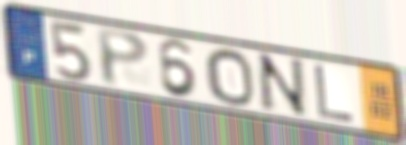5: (47, 17, 95, 84)
6: (157, 37, 199, 101)
L: (312, 62, 357, 125)
N: (255, 50, 312, 120)
O: (202, 46, 257, 108)
P: (94, 26, 152, 90)
